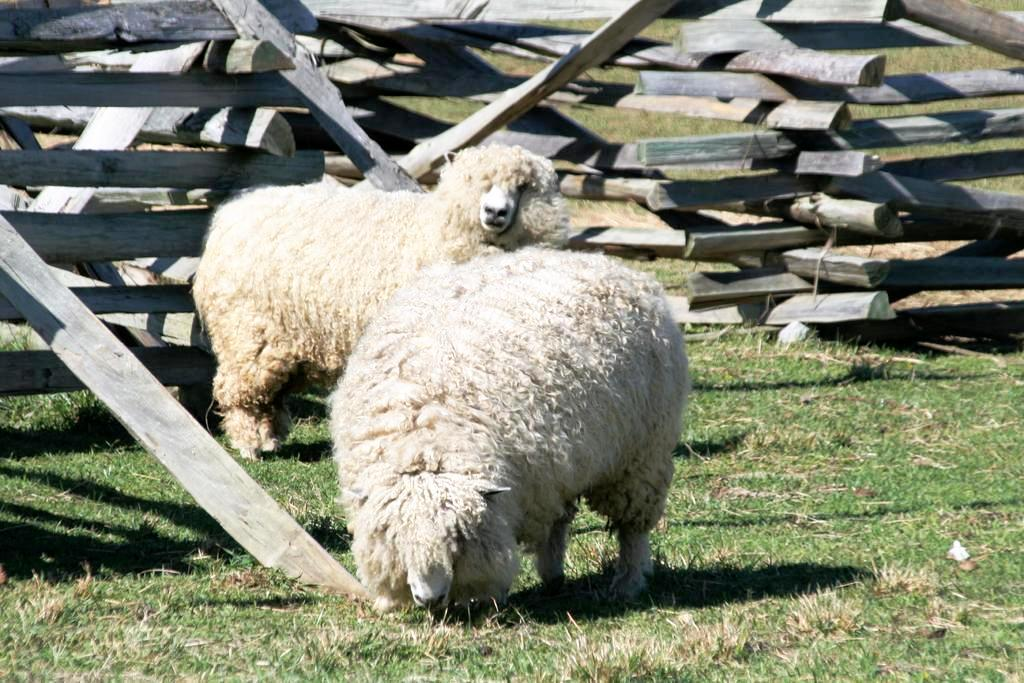Sheep: (323, 240, 695, 618), (191, 142, 569, 458)
